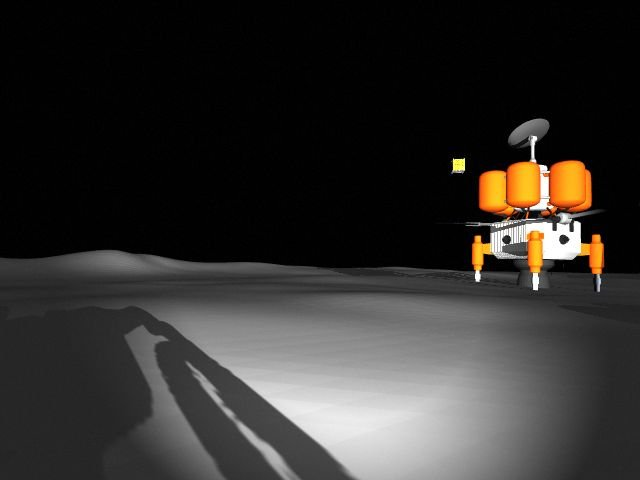cubesat: (445, 155, 467, 178)
